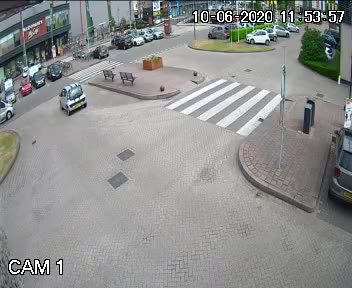car: (54, 82, 90, 120)
